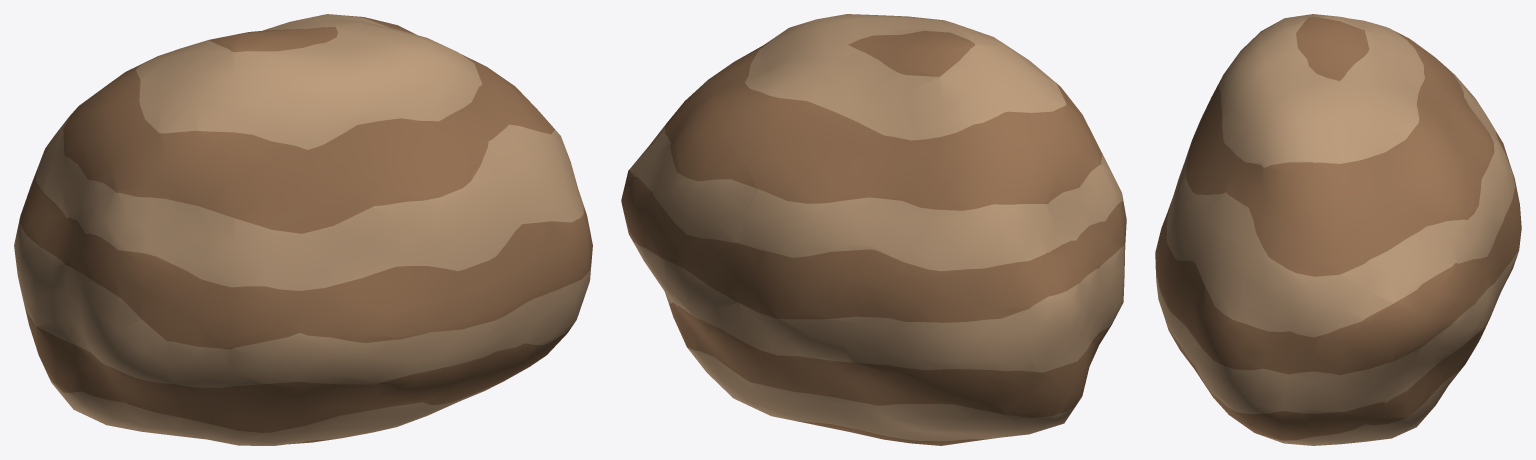
Rendered from sandstone_rock_2.glb.
3 renders of one model, left to right at view 1: azimuth 30°, elevation 25°; view 2: azimuth 150°, elevation 25°; view 3: azimuth 270°, elevation 25°, orthographic. The views are drawn at different scales.
Parts seen in each view (by area): view 1: sandstone_rock_2; view 2: sandstone_rock_2; view 3: sandstone_rock_2.
Boxes of the visible parts, bbox=[...] form: sandstone_rock_2: bbox=[14, 14, 592, 445]; sandstone_rock_2: bbox=[621, 14, 1126, 445]; sandstone_rock_2: bbox=[1155, 14, 1521, 445].
Bounding box in the file's own units: 2.02 × 1.6 × 1.52.
